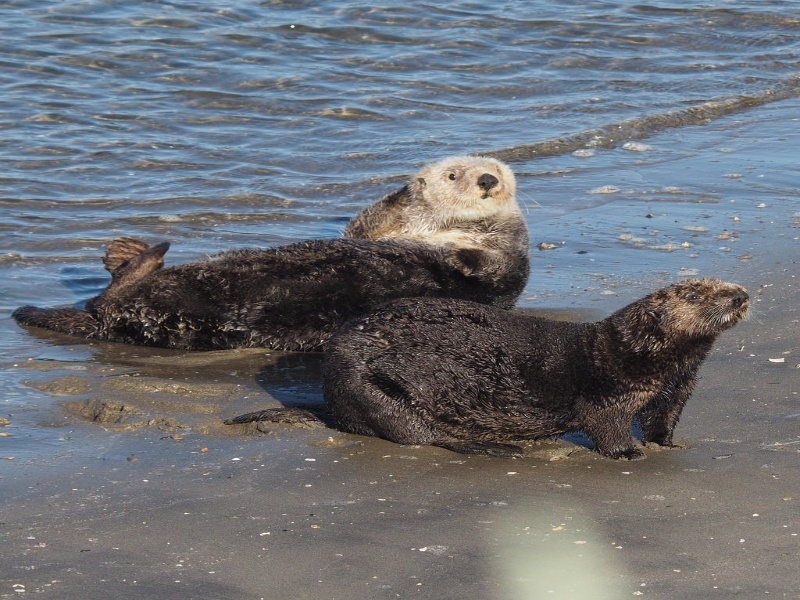minkish: (14, 149, 534, 348), (311, 275, 767, 460)
